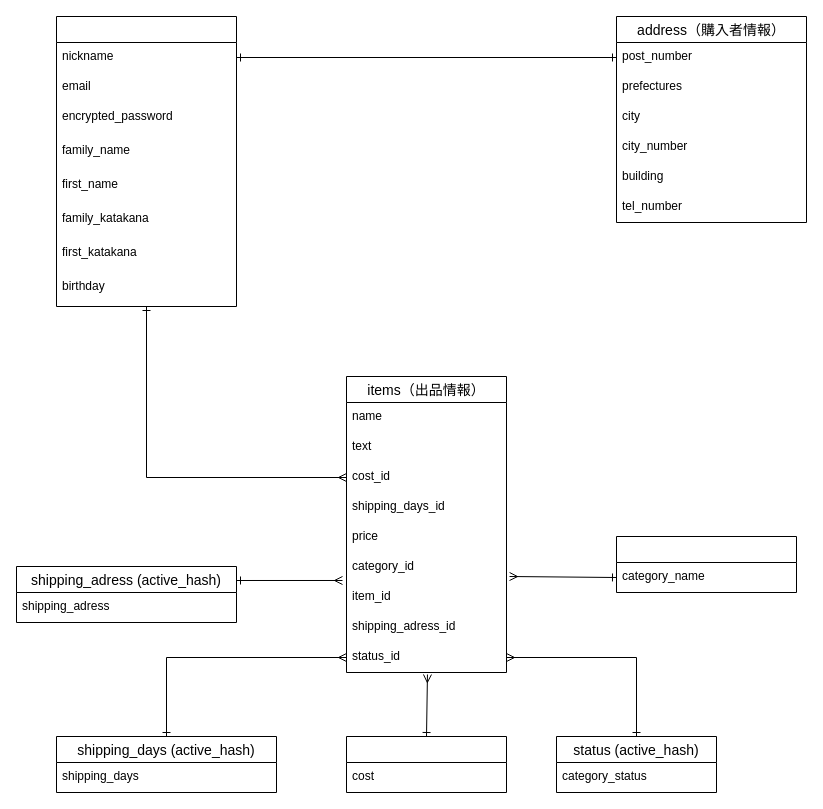
The diagram is 823 pixels wide and 809 high, and some of its shapes have lost their labels. The shapes that lost their labels are listed below. From the top down, each one's box as (x1, y1, x2, y2) in pixels, then its label:
(56, 16, 236, 306): users（ユーザー情報）
(616, 536, 796, 592): category (active_hash)
(346, 736, 506, 792): cost (active_hash)
